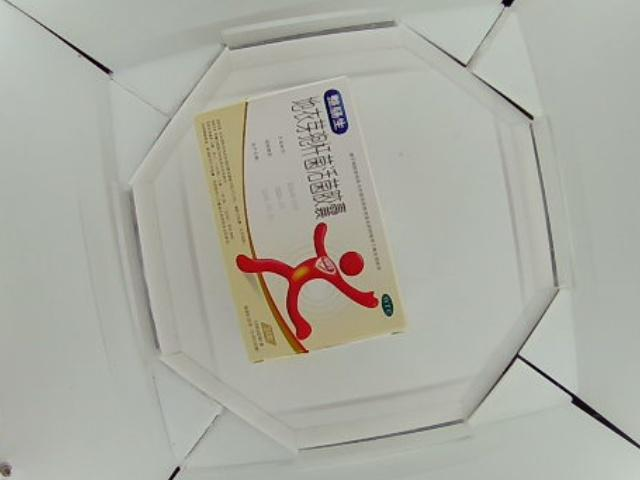Medicine: (191, 75, 403, 362)
